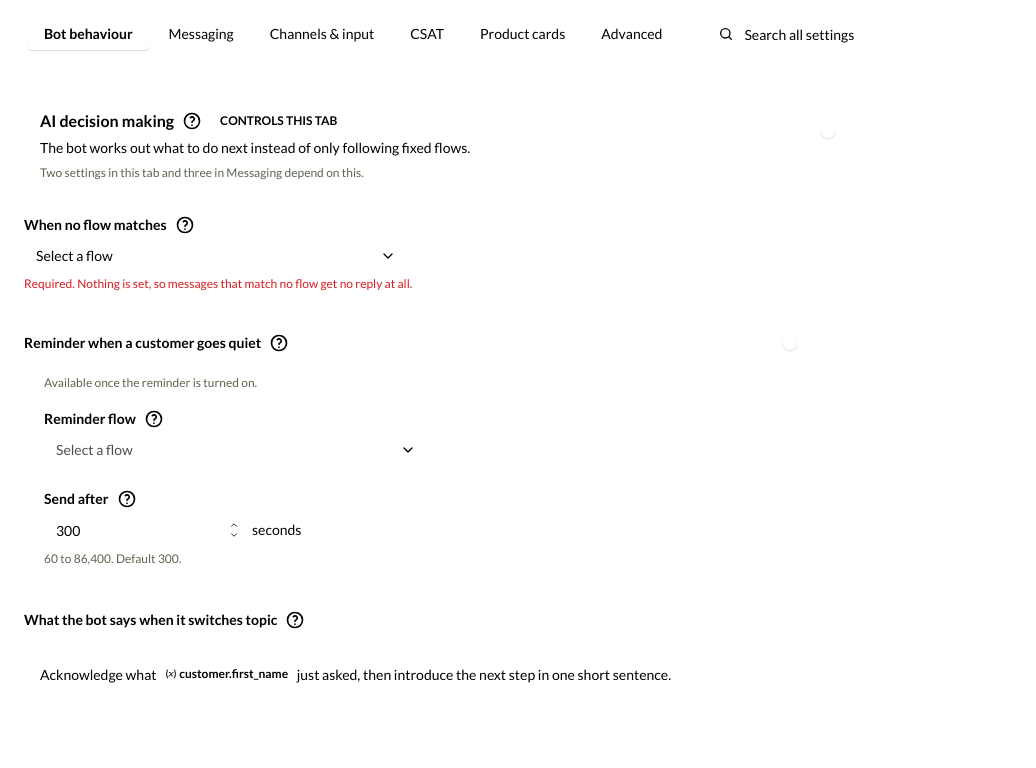
Test: BotSettings tabs › clamps the holding delay to its range on blur
This screenshot has width=1036, height=768.
Click the tab "Messaging" at (201, 34), box [153,18,250,50]
(page scrolled)
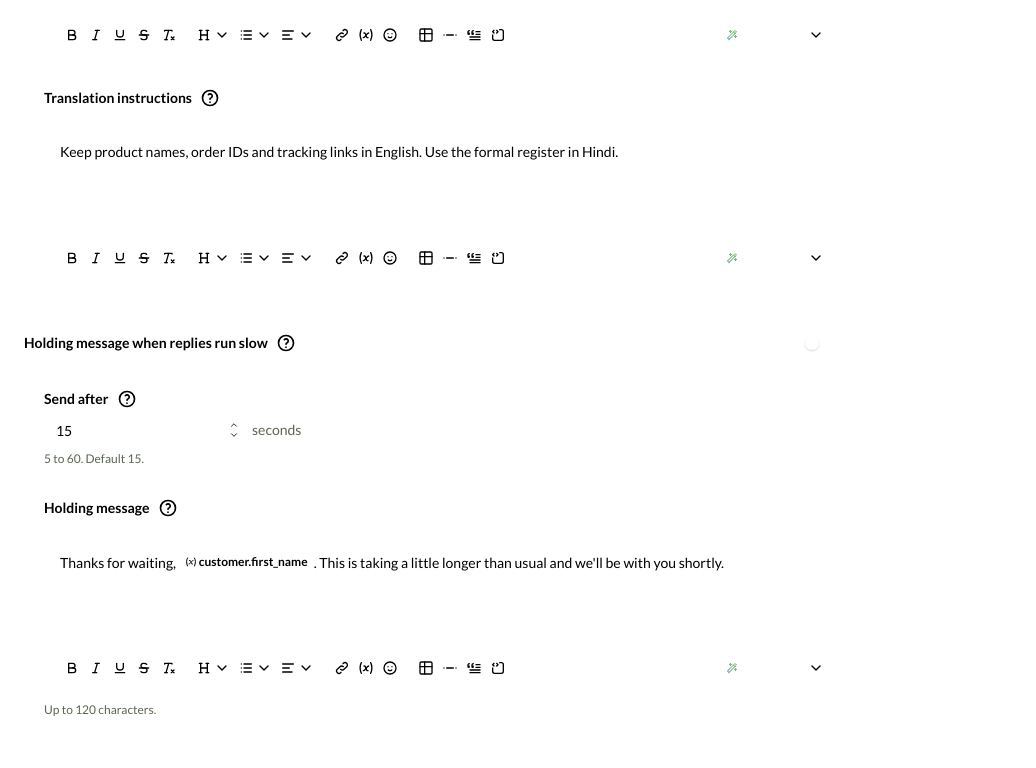
Replace the text in the number field named "Send after" with "99" at (134, 430), box [44,420,224,440]
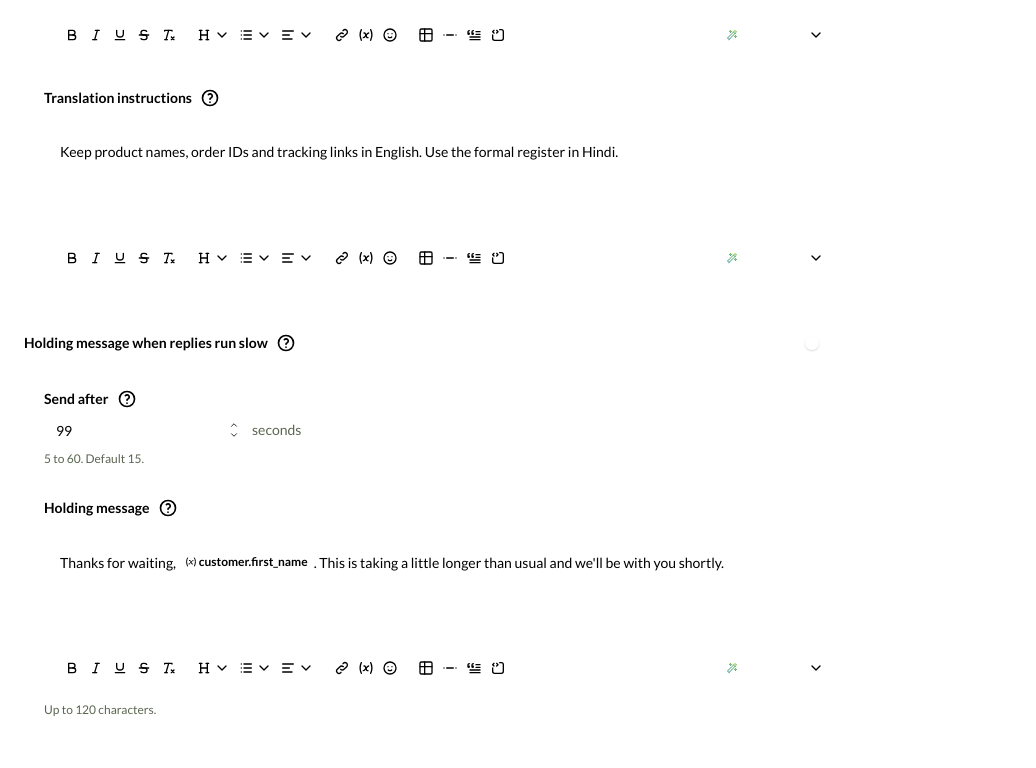
Leave the number field named "Send after", box [44,420,224,440]
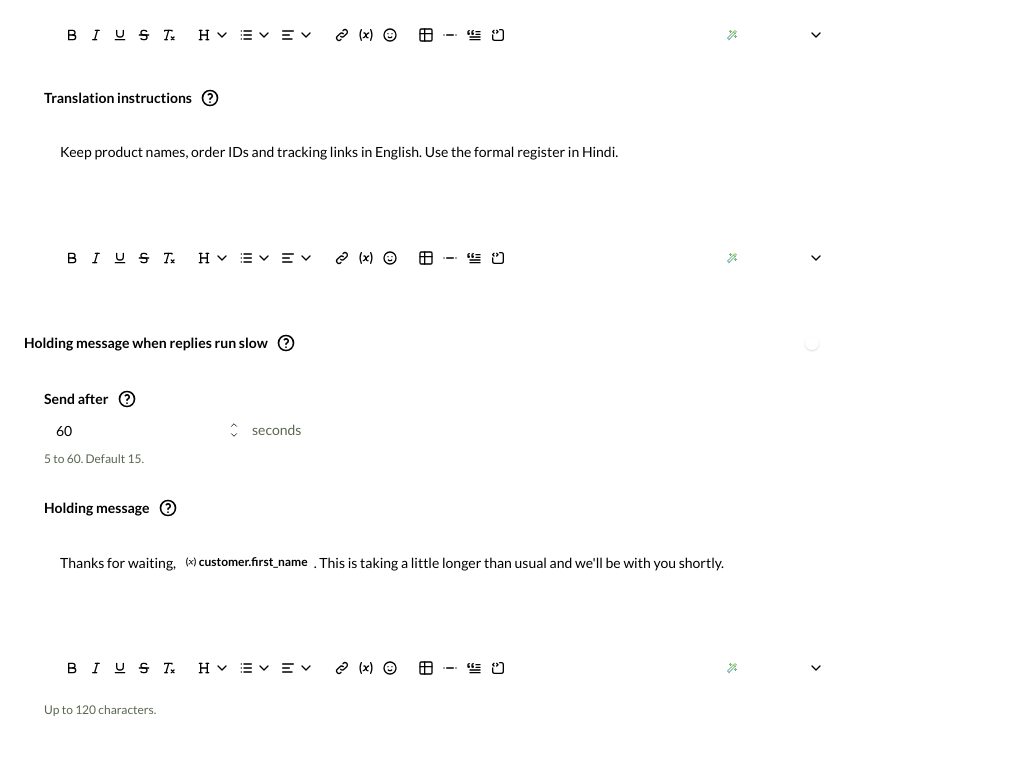
Expected: the number field named "Send after" holds "60", [44,420,224,440]
Click the button named "Decrease Send after" at (234, 435), box [224,430,244,440]
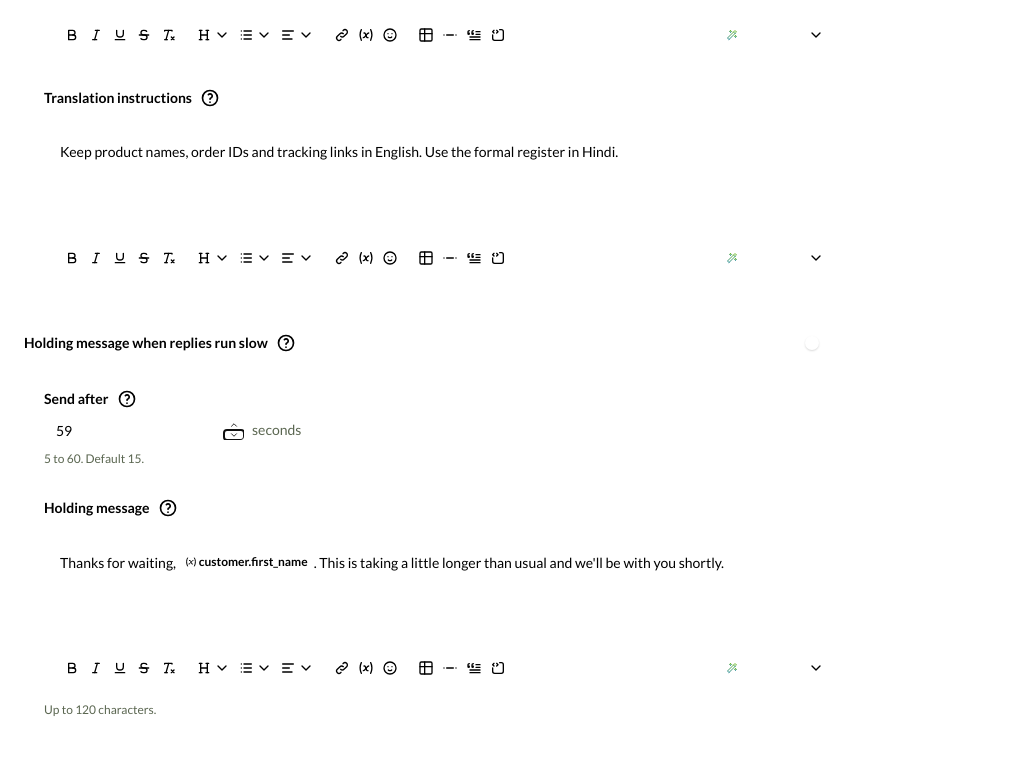
Expected: the number field named "Send after" holds "59", [44,420,224,440]
